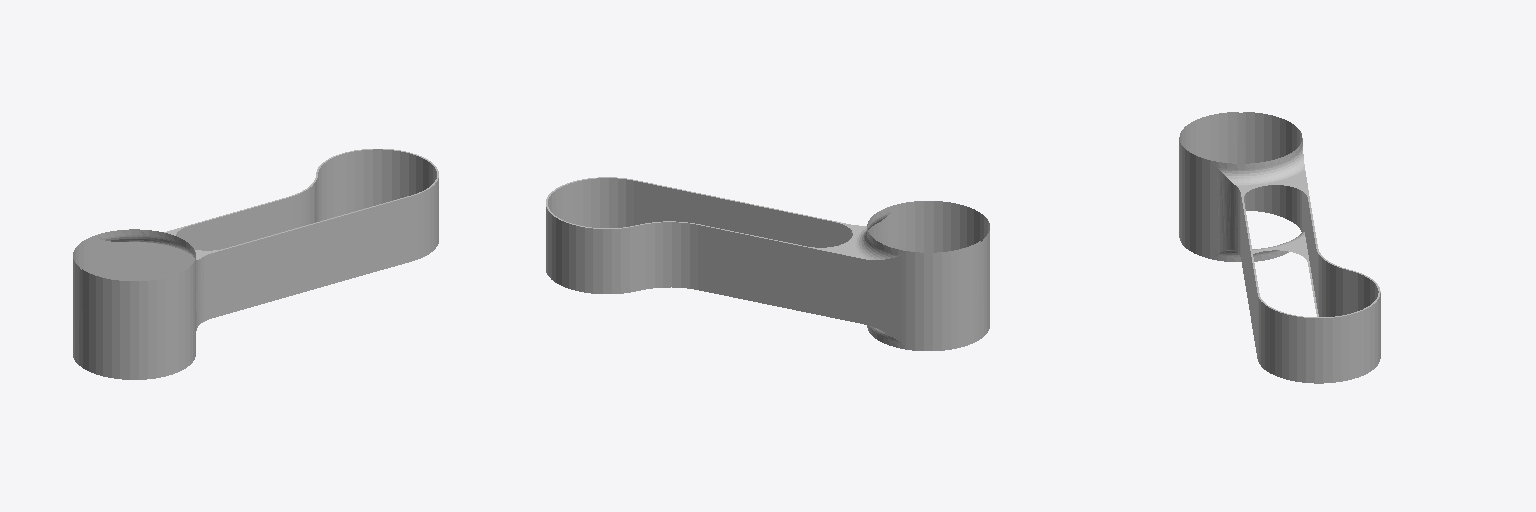
Rendered from torso_l2_0.obj.
3 renders of one model, left to right at view 1: azimuth 30°, elevation 25°; view 2: azimuth 150°, elevation 25°; view 3: azimuth 270°, elevation 25°, orthographic.
Bounding box in the file's own units: 0.561 × 0.136 × 0.2516.